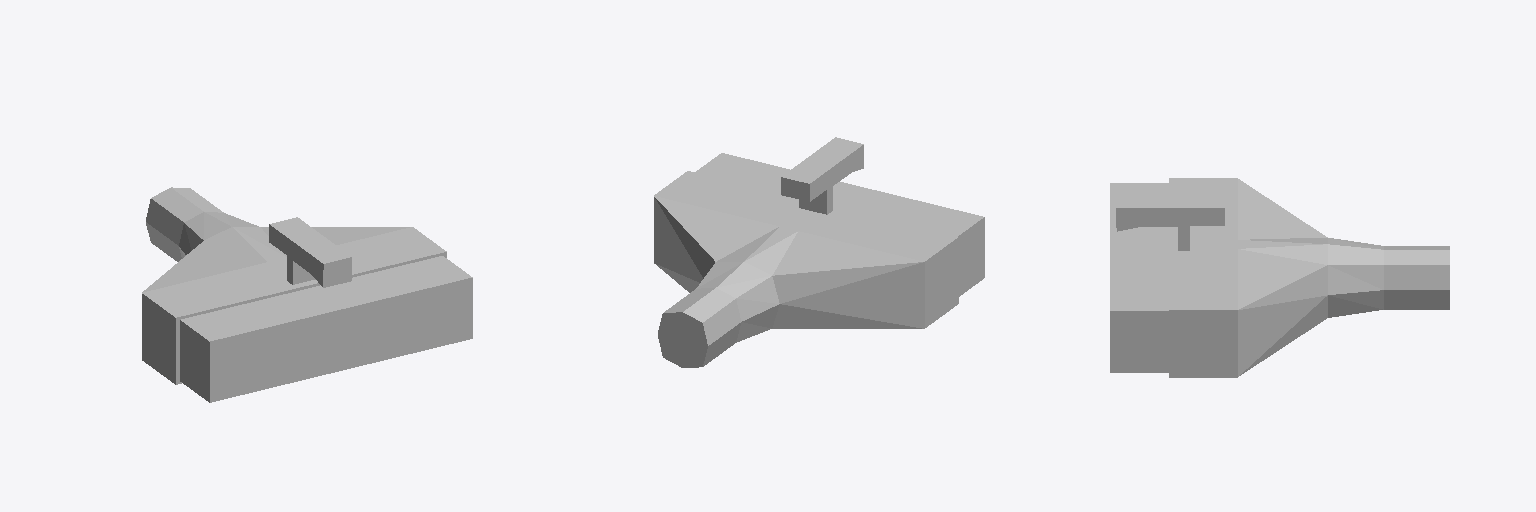
The model's file is 24PortMB.obj.
3 renders of one model, left to right at view 1: azimuth 30°, elevation 25°; view 2: azimuth 150°, elevation 25°; view 3: azimuth 270°, elevation 25°, orthographic.
Parts seen in each view (by area): view 1: Cube.001; view 2: Cube.001; view 3: Cube.001.
Part boxes in pixels (x1,y1,x2,y2): Cube.001: (142, 187, 472, 402); Cube.001: (654, 137, 984, 367); Cube.001: (1110, 178, 1449, 377).
Size of the model in its own units: 0.3632 by 0.1419 by 0.3955.